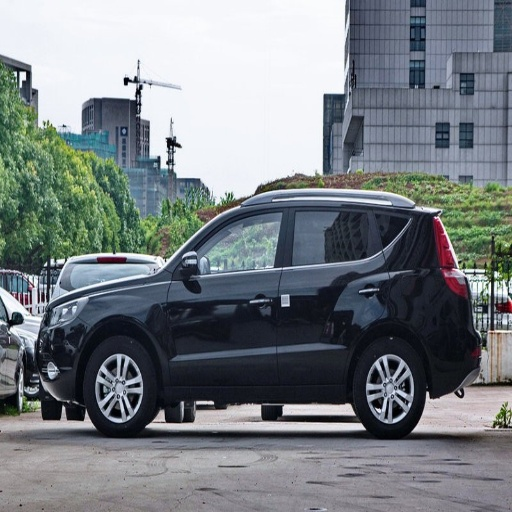back_left_door: (276, 202, 384, 384)
front_left_door: (167, 204, 289, 383)
